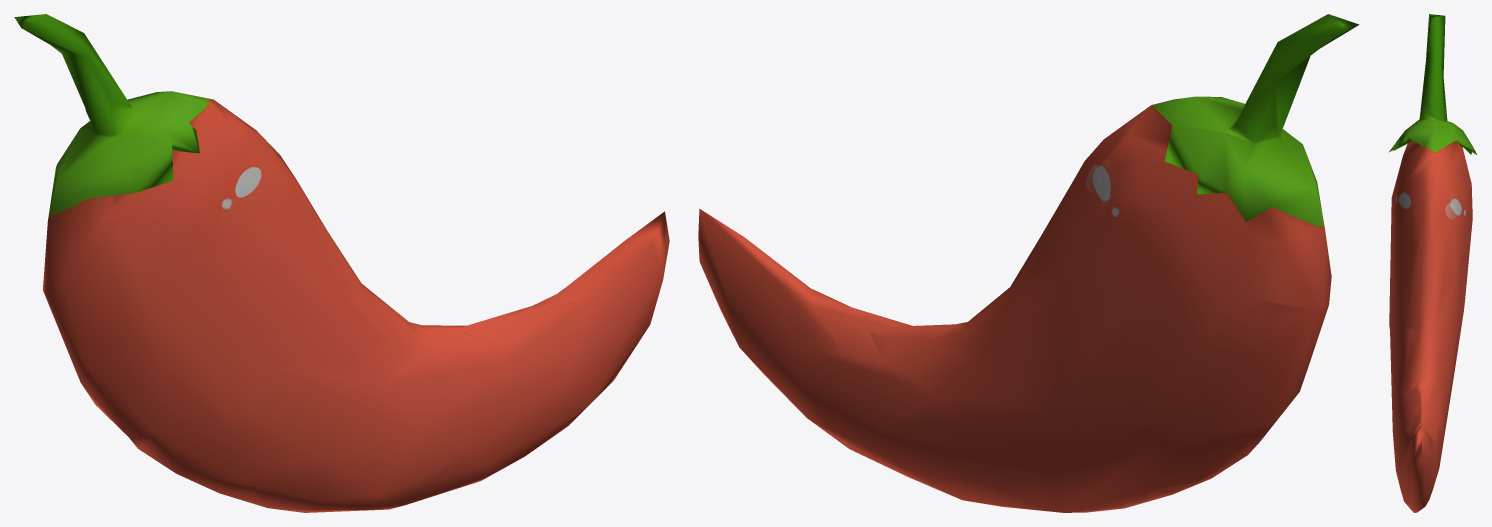
Rendered from tripo_convert_05a800a1-632e-4e67-8a9d-ffd1e4016e38.fbx.
3 renders of one model, left to right at view 1: azimuth 30°, elevation 25°; view 2: azimuth 150°, elevation 25°; view 3: azimuth 270°, elevation 25°, orthographic. The views are drawn at different scales.
Parts seen in each view (by area): view 1: tripo_node_05a800a1; view 2: tripo_node_05a800a1; view 3: tripo_node_05a800a1.
Part boxes in pixels (left/top/right/bottom): tripo_node_05a800a1: left=14, top=14, right=669, bottom=512; tripo_node_05a800a1: left=698, top=14, right=1359, bottom=512; tripo_node_05a800a1: left=1388, top=14, right=1476, bottom=512.
Bounding box in the file's own units: 100 × 18.89 × 84.03.
Materials: 1 (1 with a texture image).
